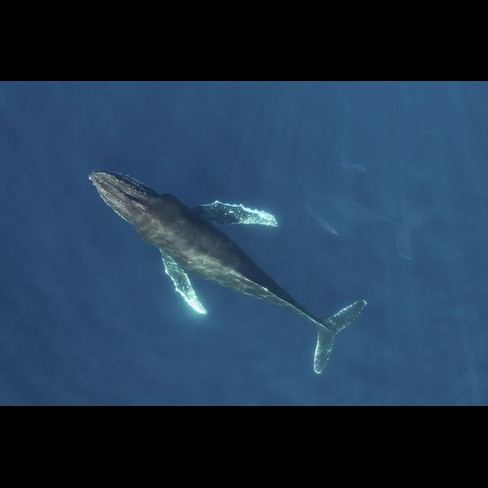hump: (83, 162, 376, 384)
